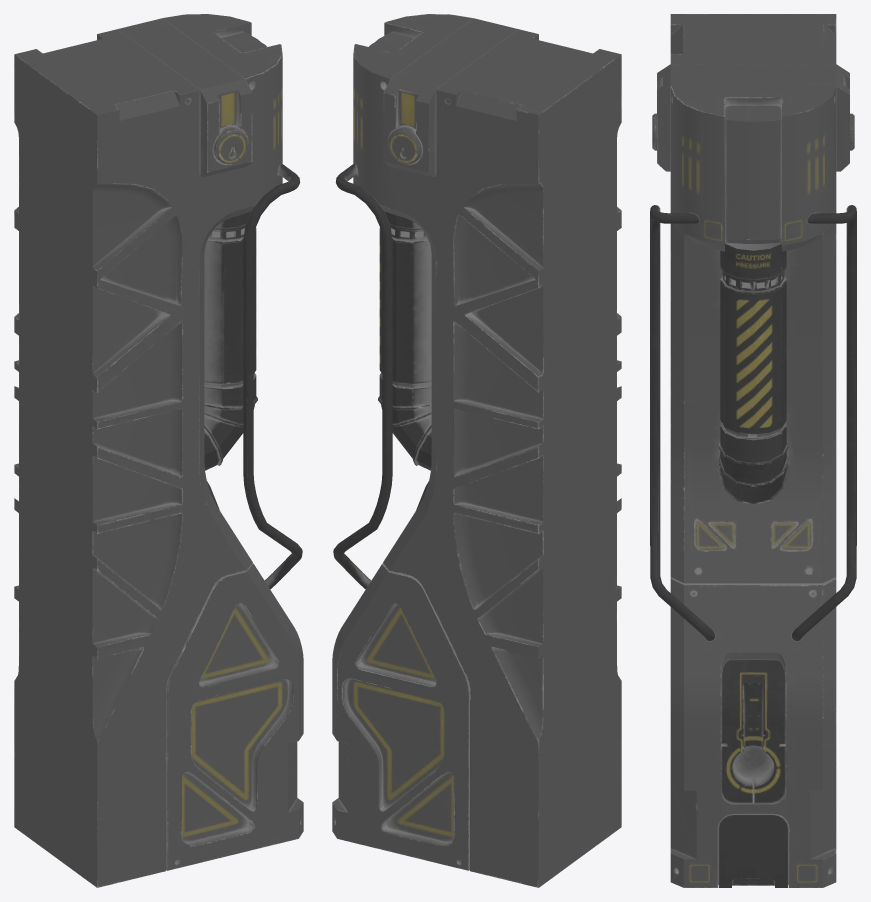
File: c056-opt.glb
3 renders of one model, left to right at view 1: azimuth 30°, elevation 25°; view 2: azimuth 150°, elevation 25°; view 3: azimuth 270°, elevation 25°, orthographic.
Visible parts, largest first — view 1: Cube.056; view 2: Cube.056; view 3: Cube.056.
Boxes of the visible parts, x1,y1,x2,y2 form: Cube.056: (14, 14, 303, 887); Cube.056: (332, 14, 621, 887); Cube.056: (650, 14, 856, 887).
Bounding box in the file's own units: 0.8403 × 2.91 × 0.7083.
Materials: 1 (1 with a texture image).
